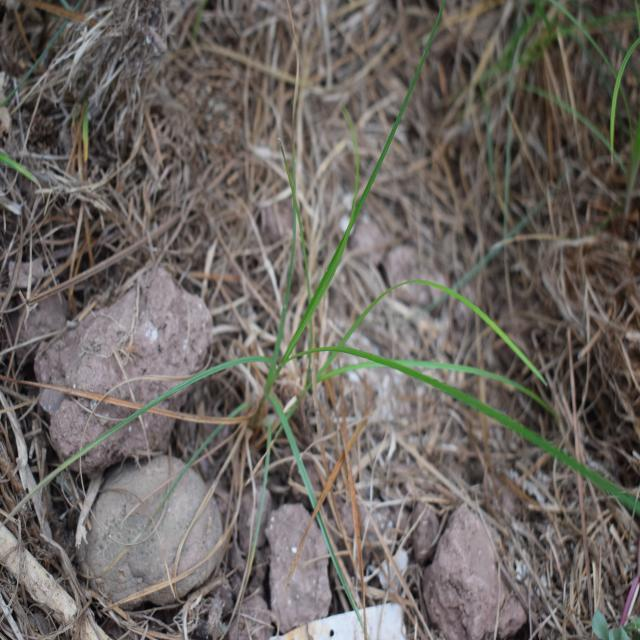sedge: (81, 174, 586, 626)
